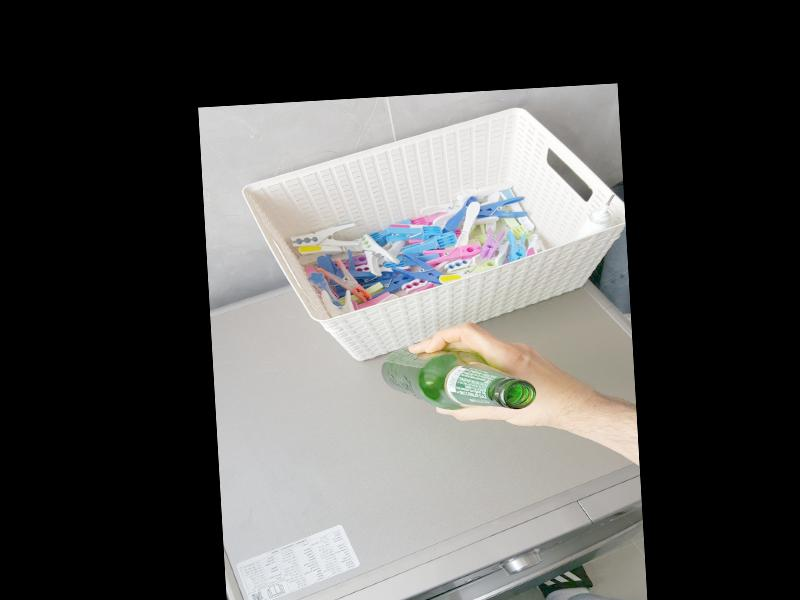Beer: (381, 337, 536, 417)
